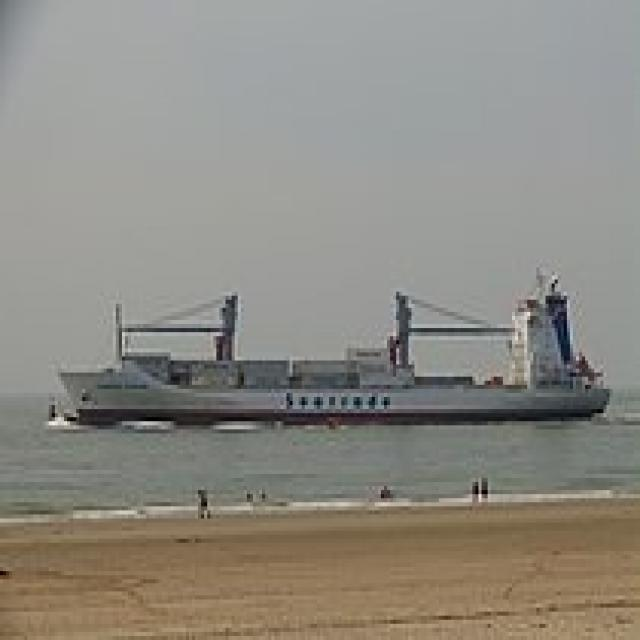Ship: (47, 248, 623, 439)
